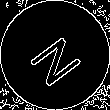N_NE: (22, 24, 88, 86)
